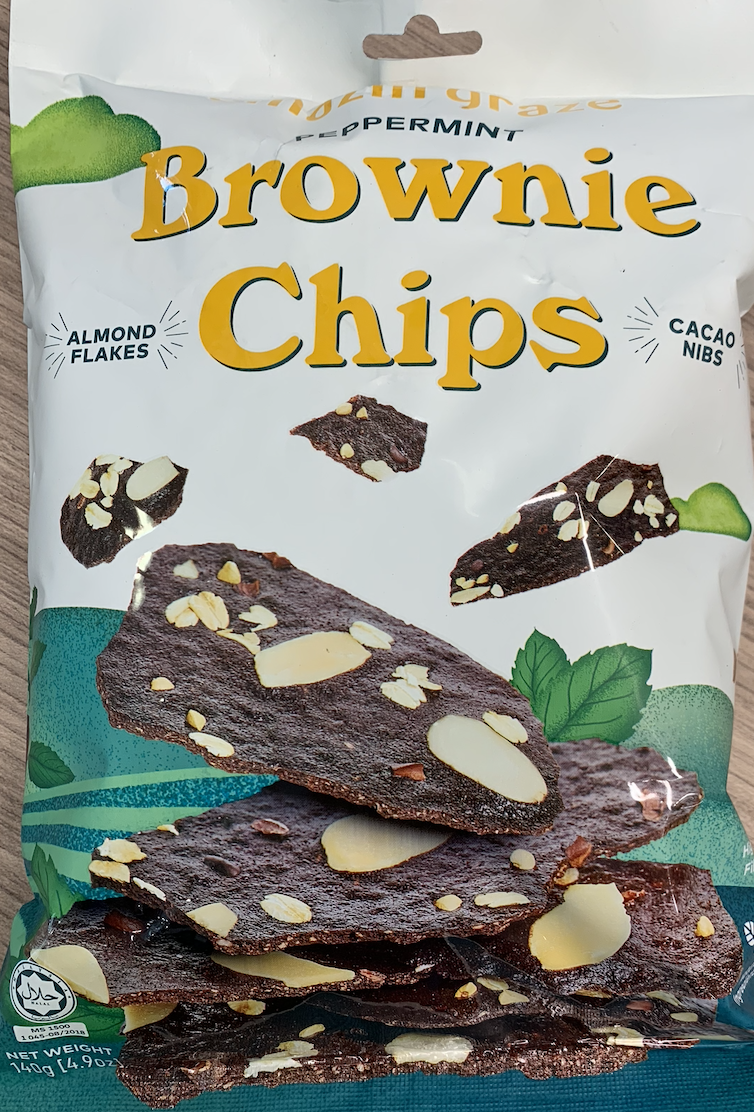cookies_100g-199g: (36, 109, 717, 1081)
